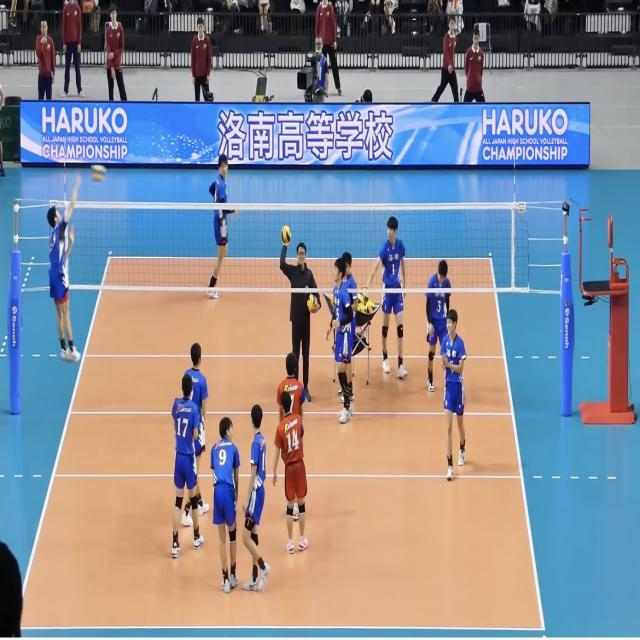spike: (45, 170, 91, 372)
